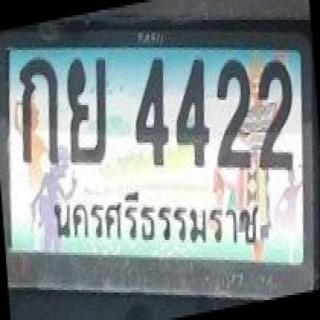A01: (16, 56, 62, 166)
A34: (63, 55, 113, 168)
N02: (213, 54, 256, 172), (256, 52, 297, 175)
N04: (132, 55, 171, 167), (173, 53, 210, 170)
P32: (47, 185, 266, 248)
